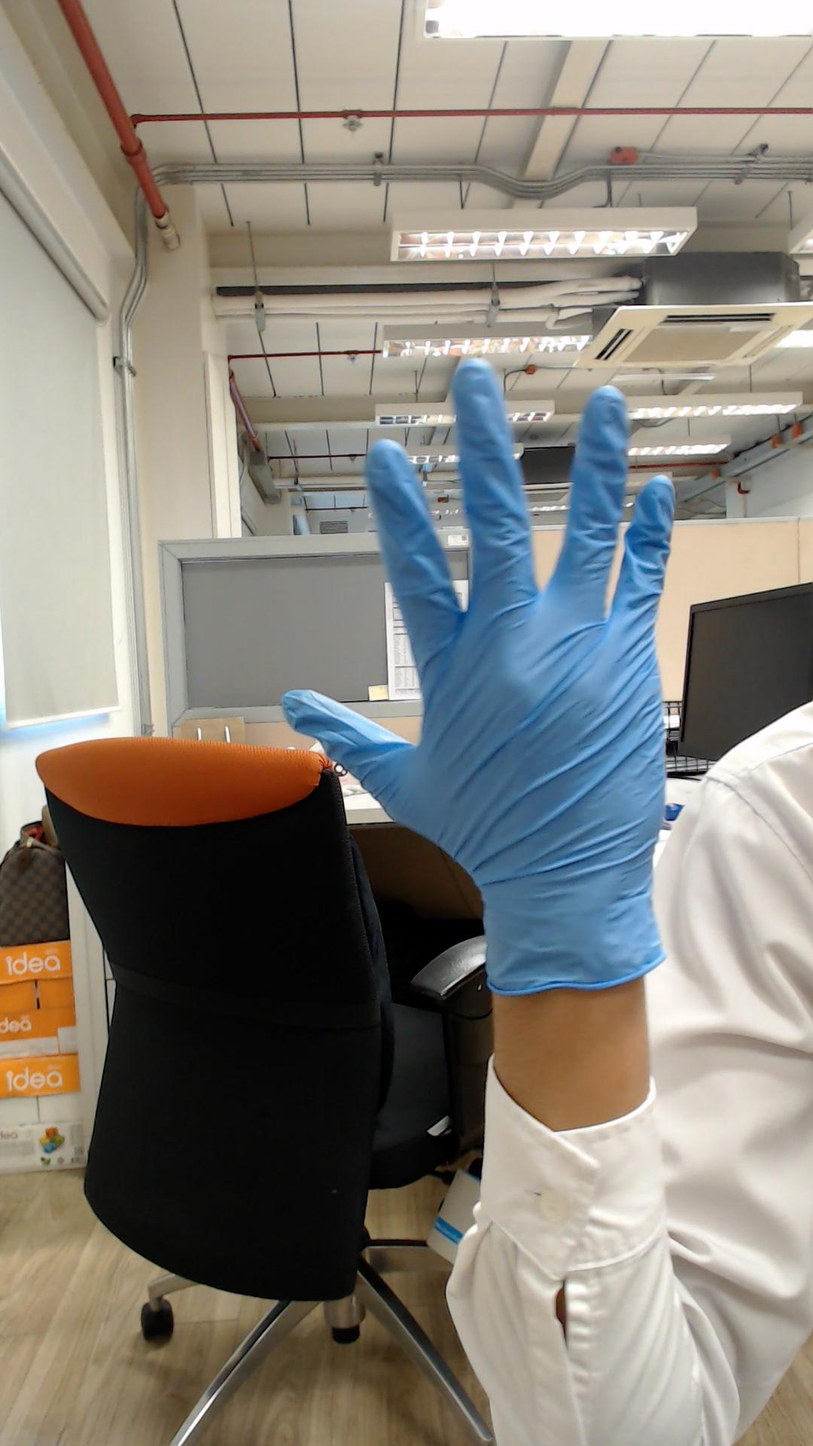gloves: (272, 337, 729, 864)
